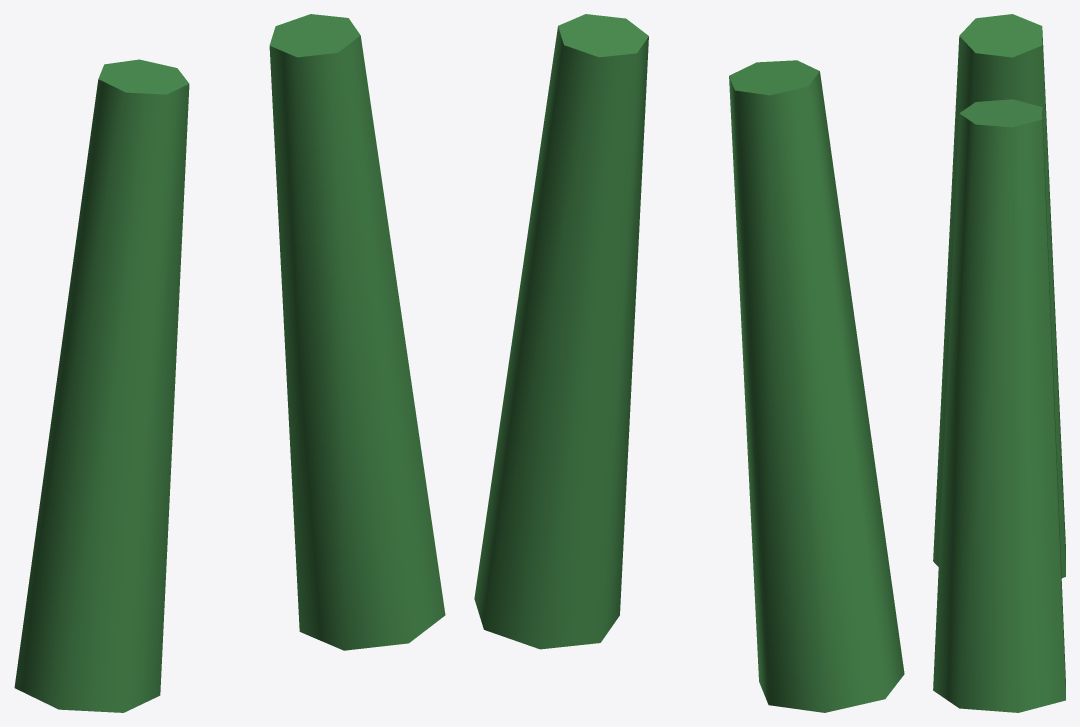
File: crop_strawberry_sprout.glb
3 views of the same model, side by side, from view 1: azimuth 30°, elevation 25°; view 2: azimuth 150°, elevation 25°; view 3: azimuth 270°, elevation 25° (orthographic). The views are drawn at different scales.
Visible parts, largest first — view 1: stem_1, stem_0; view 2: stem_1, stem_0; view 3: stem_0, stem_1.
Boxes of the visible parts, x1,y1,x2,y2 form: stem_1: (14, 59, 189, 712); stem_0: (269, 14, 445, 650); stem_1: (729, 60, 904, 712); stem_0: (474, 14, 648, 649); stem_0: (933, 99, 1065, 712); stem_1: (933, 14, 1065, 578).
Size of what is drawn, in the model's own units: 0.2525 by 0.3546 by 0.076.
